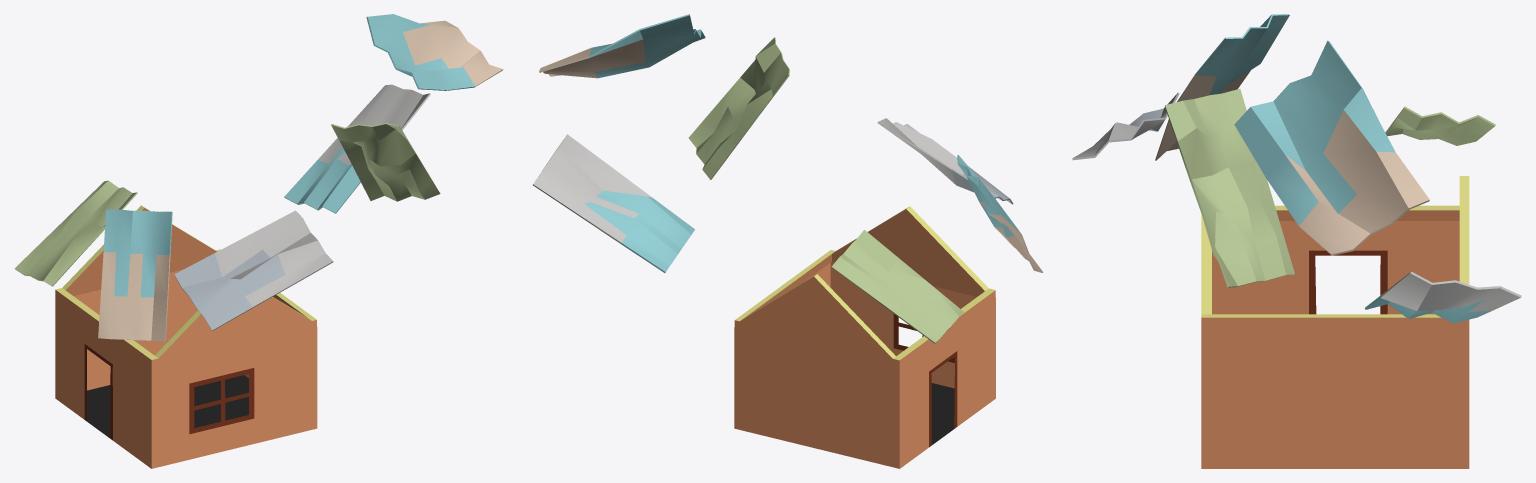
Rendered from Casa3DespuesVolcan.glb.
3 views of the same model, side by side, from view 1: azimuth 30°, elevation 25°; view 2: azimuth 150°, elevation 25°; view 3: azimuth 270°, elevation 25° (orthographic). The views are drawn at different scales.
Visible parts, largest first — view 1: Cube, Plane.003, Plane.006, Plane, Plane.005, Plane.004, Plane.001, Plane.002; view 2: Cube, Plane, Plane.001, Plane.002, Plane.004, Plane.005, Plane.003, Plane.006; view 3: Cube, Plane.005, Plane.004, Plane, Plane.001, Plane.006, Plane.002, Plane.003.
Part boxes in pixels (x1,y1,x2,y2): Cube: [55, 269, 317, 468]; Plane.003: [174, 210, 333, 330]; Plane.006: [98, 209, 172, 341]; Plane: [55, 205, 316, 367]; Plane.005: [366, 14, 503, 90]; Plane.004: [331, 122, 440, 201]; Plane.001: [284, 84, 430, 213]; Plane.002: [14, 180, 137, 286]; Cube: [734, 261, 995, 468]; Plane: [734, 206, 995, 367]; Plane.001: [533, 134, 694, 272]; Plane.002: [831, 230, 963, 343]; Plane.004: [688, 37, 789, 179]; Plane.005: [539, 14, 705, 78]; Plane.003: [877, 118, 1013, 204]; Plane.006: [957, 155, 1043, 272]; Cube: [1201, 221, 1469, 468]; Plane.005: [1234, 40, 1429, 255]; Plane.004: [1165, 89, 1294, 287]; Plane: [1201, 176, 1469, 327]; Plane.001: [1365, 271, 1521, 323]; Plane.006: [1155, 14, 1289, 160]; Plane.002: [1385, 106, 1495, 145]; Plane.003: [1072, 92, 1179, 160].
Size of the model in its own units: 45.1 by 34.06 by 28.12.
